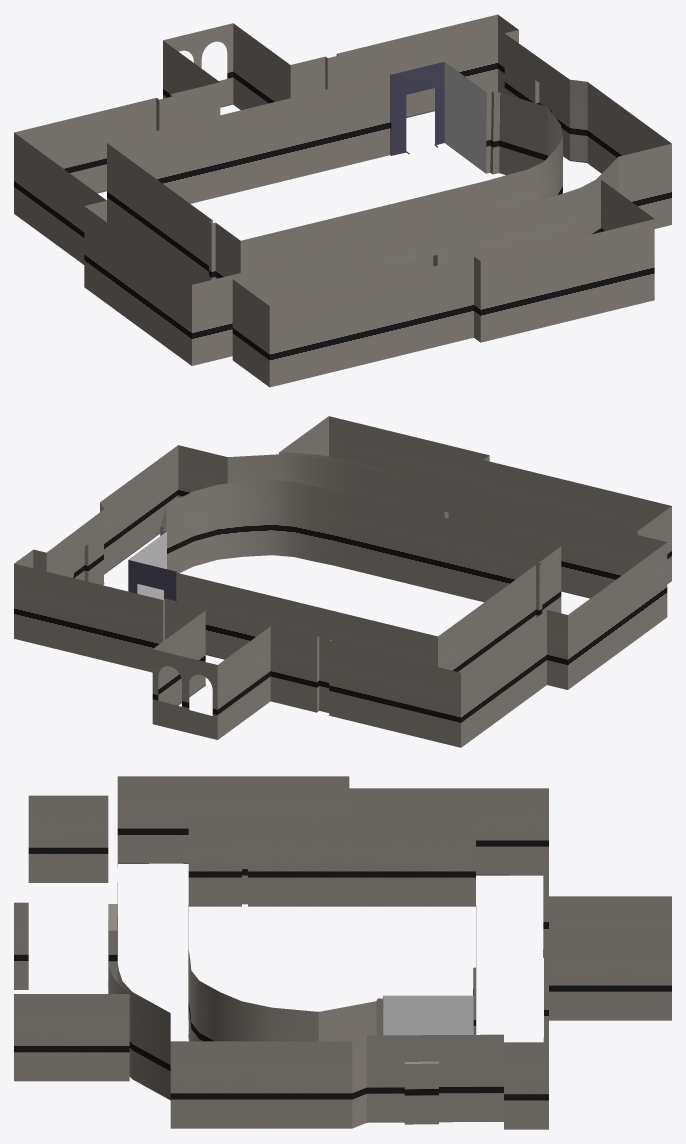
Rendered from walls.fbx.
3 renders of one model, top to bottom at view 1: azimuth 30°, elevation 25°; view 2: azimuth 150°, elevation 25°; view 3: azimuth 270°, elevation 25°, orthographic. The views are drawn at different scales.
Visible parts, largest first — view 1: Retopologia; view 2: Retopologia; view 3: Retopologia.
Boxes of the visible parts, bbox=[...] form: Retopologia: bbox=[14, 14, 671, 387]; Retopologia: bbox=[14, 416, 671, 747]; Retopologia: bbox=[14, 776, 671, 1129].
Bounding box in the file's own units: 1963 × 301 × 2054.
4 materials, 1 textured.
